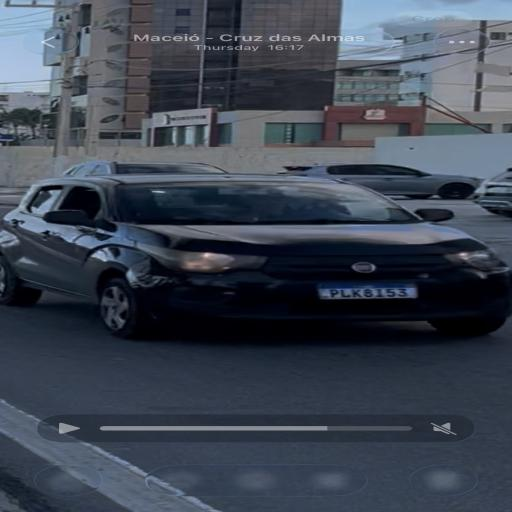detec-o-placas: (286, 285, 451, 307)
